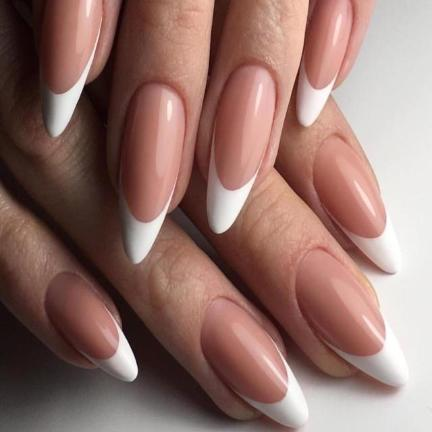Nail: (295, 249, 409, 386), (201, 297, 309, 429), (313, 137, 404, 274), (120, 82, 186, 264), (207, 64, 277, 234), (45, 273, 138, 382), (38, 0, 103, 138), (296, 2, 354, 127)
